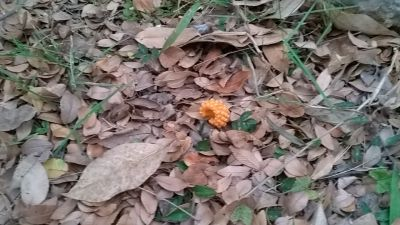eggs: (199, 97, 231, 129)
